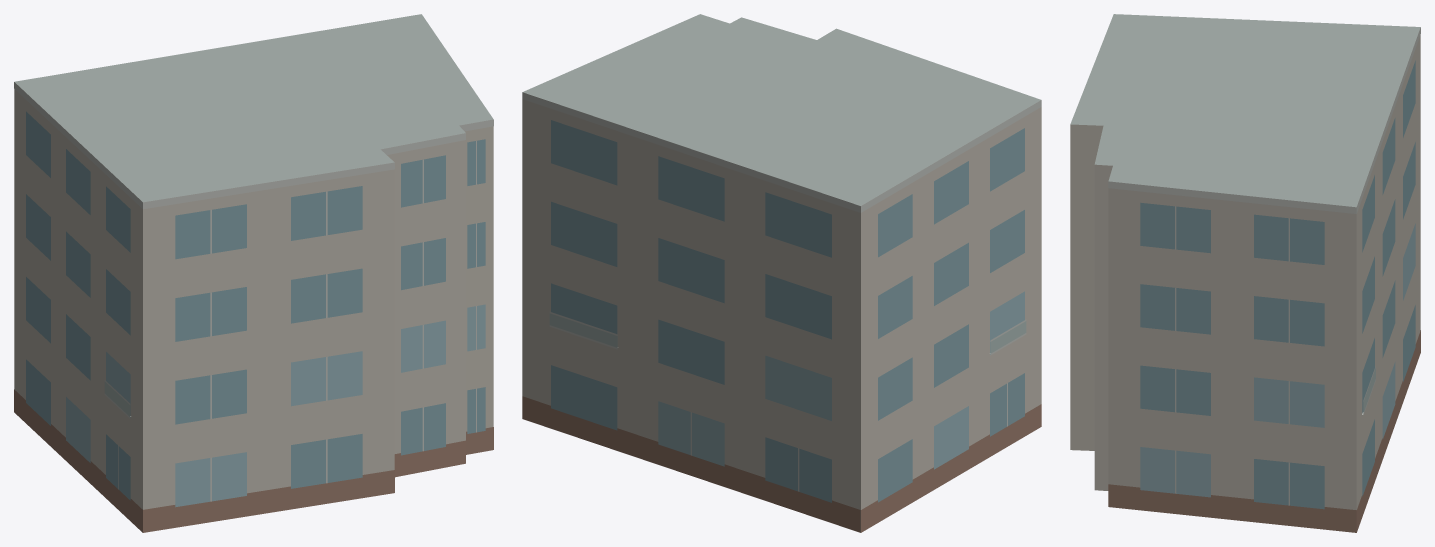
File: survey-upis-32620837.glb
3 views of the same model, side by side, from view 1: azimuth 30°, elevation 25°; view 2: azimuth 150°, elevation 25°; view 3: azimuth 270°, elevation 25° (orthographic).
Parts seen in each view (by area): view 1: survey-upis-32620837.tmp; view 2: survey-upis-32620837.tmp; view 3: survey-upis-32620837.tmp.
Boxes of the visible parts, box(x1,y1,x2,y2) form: survey-upis-32620837.tmp: box(14, 14, 493, 532); survey-upis-32620837.tmp: box(522, 14, 1041, 532); survey-upis-32620837.tmp: box(1070, 14, 1420, 532).
Size of the model in its own units: 14.9 by 11.7 by 11.43.
